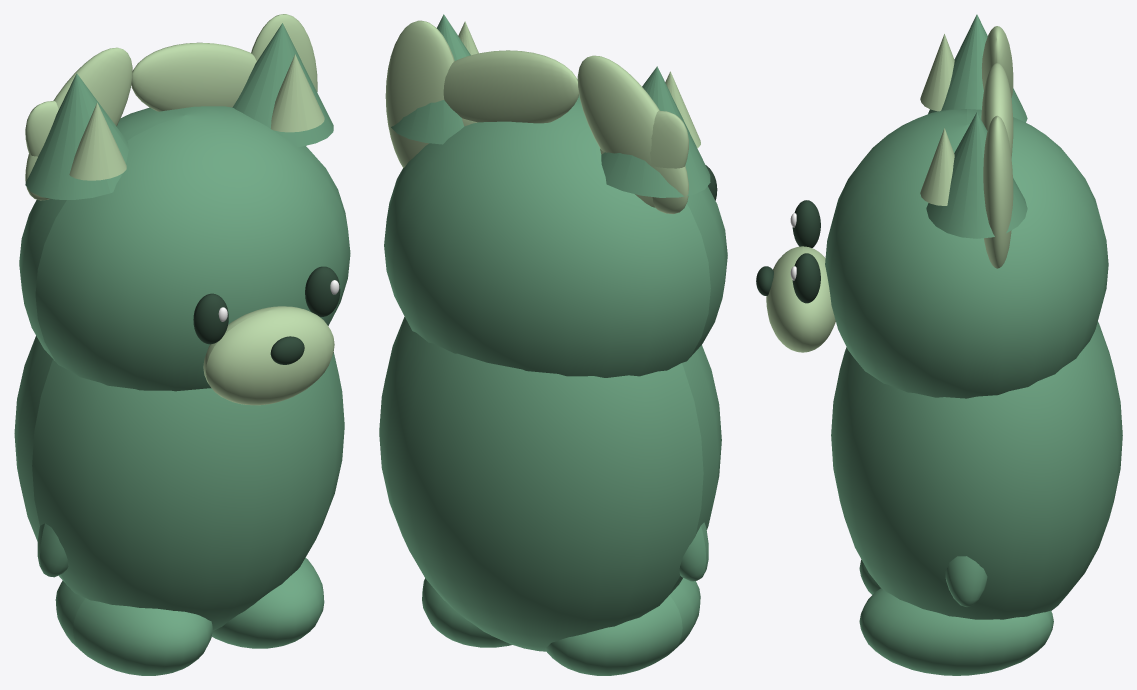
3 renders of one model, left to right at view 1: azimuth 30°, elevation 25°; view 2: azimuth 150°, elevation 25°; view 3: azimuth 270°, elevation 25°, orthographic. The views are drawn at different scales.
Size of the model in its own units: 1.66 by 3.18 by 1.81.
